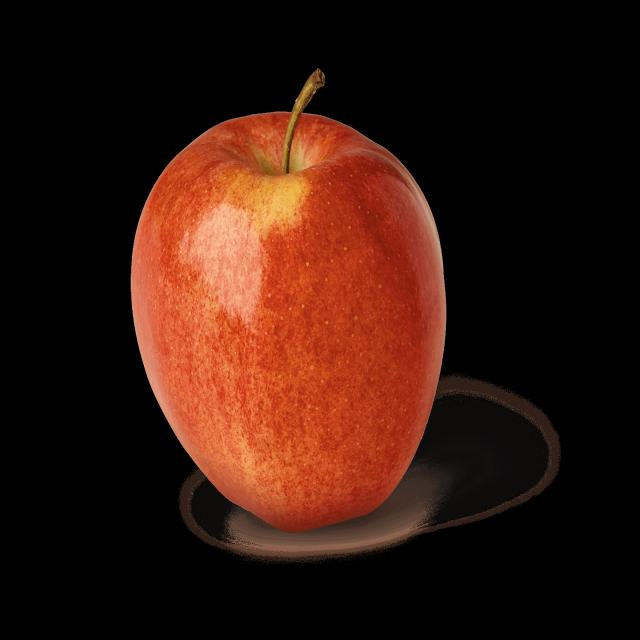Apple: (123, 62, 451, 530)
